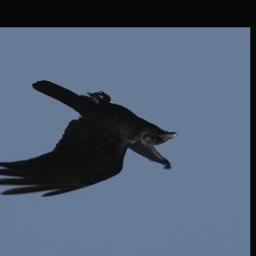Crow: (0, 80, 179, 200)
